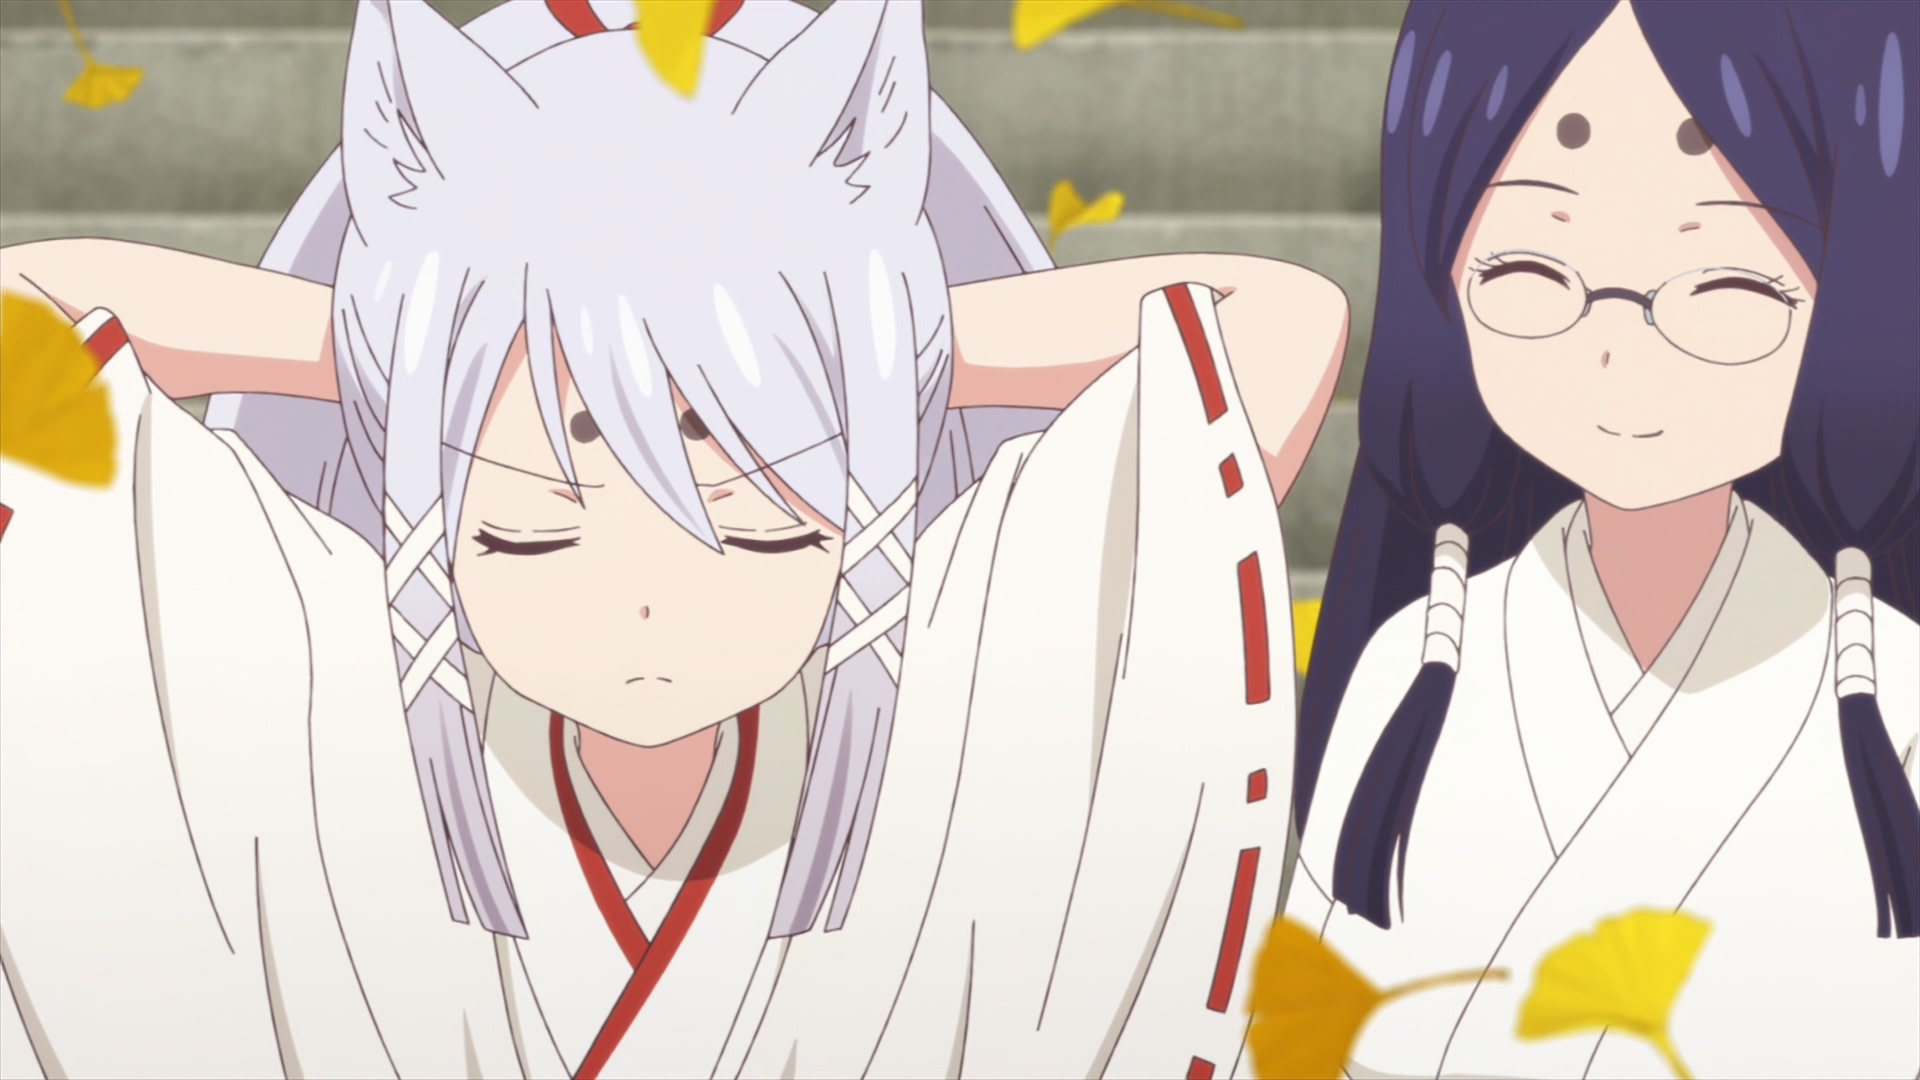柊: (1, 1, 1350, 1080)
菖: (1237, 1, 1920, 1080)
